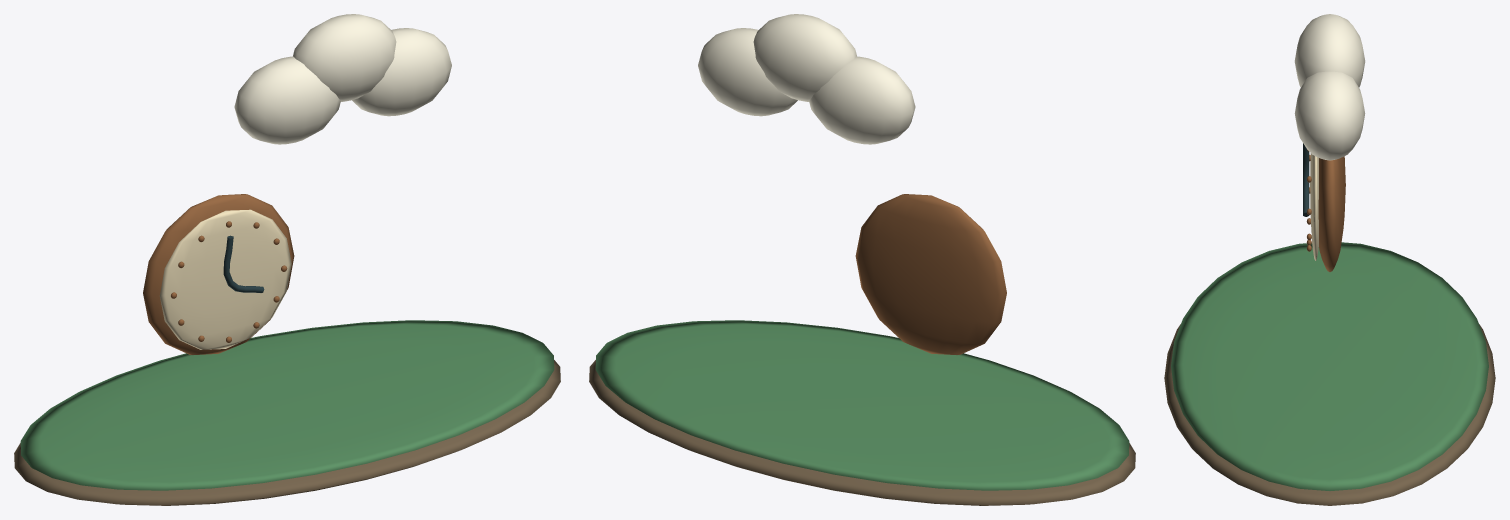
Rendered from today-clock.glb.
3 views of the same model, side by side, from view 1: azimuth 30°, elevation 25°; view 2: azimuth 150°, elevation 25°; view 3: azimuth 270°, elevation 25° (orthographic).
Visible parts, largest first — view 1: today-clock_surface_01, today-clock_surface_05, today-clock_surface_03, today-clock_surface_00, today-clock_surface_02; view 2: today-clock_surface_01, today-clock_surface_02, today-clock_surface_05, today-clock_surface_00; view 3: today-clock_surface_01, today-clock_surface_05, today-clock_surface_00, today-clock_surface_02, today-clock_surface_03, today-clock_surface_04.
Part boxes in pixels (left/top/right/bottom): today-clock_surface_01: left=20, top=320, right=554, bottom=490; today-clock_surface_05: left=234, top=14, right=451, bottom=144; today-clock_surface_03: left=159, top=209, right=291, bottom=349; today-clock_surface_00: left=14, top=360, right=560, bottom=505; today-clock_surface_02: left=143, top=194, right=294, bottom=354; today-clock_surface_01: left=595, top=320, right=1129, bottom=490; today-clock_surface_02: left=855, top=194, right=1006, bottom=354; today-clock_surface_05: left=698, top=14, right=915, bottom=144; today-clock_surface_00: left=589, top=360, right=1135, bottom=505; today-clock_surface_01: left=1171, top=242, right=1488, bottom=490; today-clock_surface_05: left=1294, top=14, right=1365, bottom=160; today-clock_surface_00: left=1164, top=324, right=1495, bottom=505; today-clock_surface_02: left=1306, top=149, right=1345, bottom=271; today-clock_surface_03: left=1310, top=153, right=1318, bottom=260; today-clock_surface_04: left=1303, top=143, right=1309, bottom=216.
Bounding box in the file's own units: 4.56 × 3.34 × 2.5.
